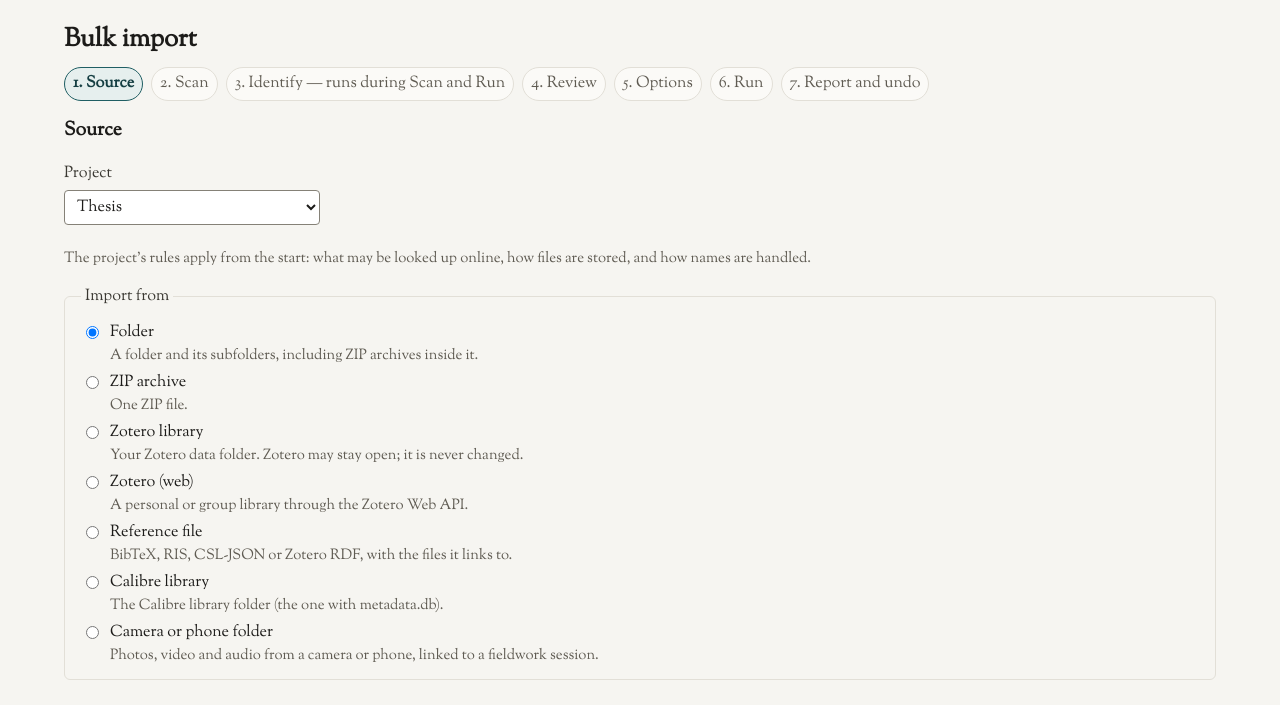
Scenario: the import wizard's path fields in the desktop shell (D12) › Reference file: the picker fills “File path”, and Scan sends that path
Click the radio button labelled "Reference file".
click(92, 532)  # box [86,526,99,539]
(page scrolled)
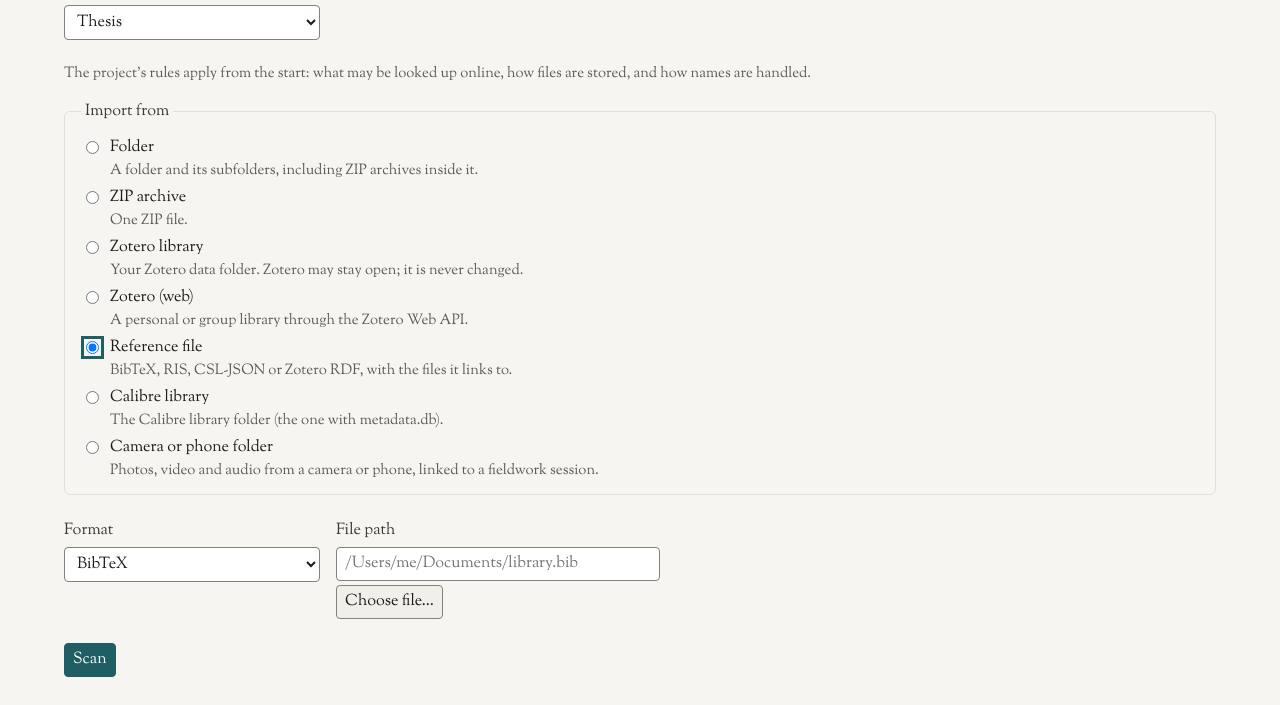
Click the button "Choose file…".
click(389, 602)  # box [336,585,443,619]
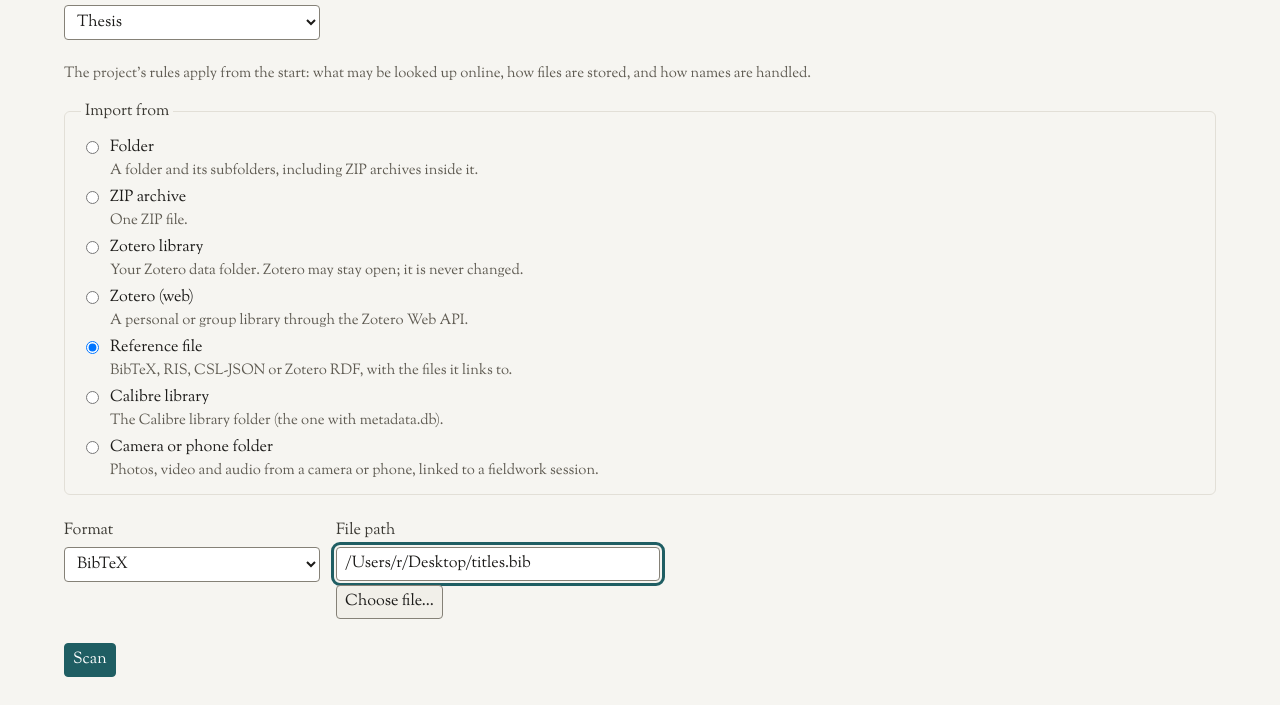
Expected: the field labelled "File path" holds "/Users/r/Desktop/titles.bib", [336,547,660,581]
Click the button "Scan".
click(90, 660)  # box [64,643,116,677]
(page scrolled)
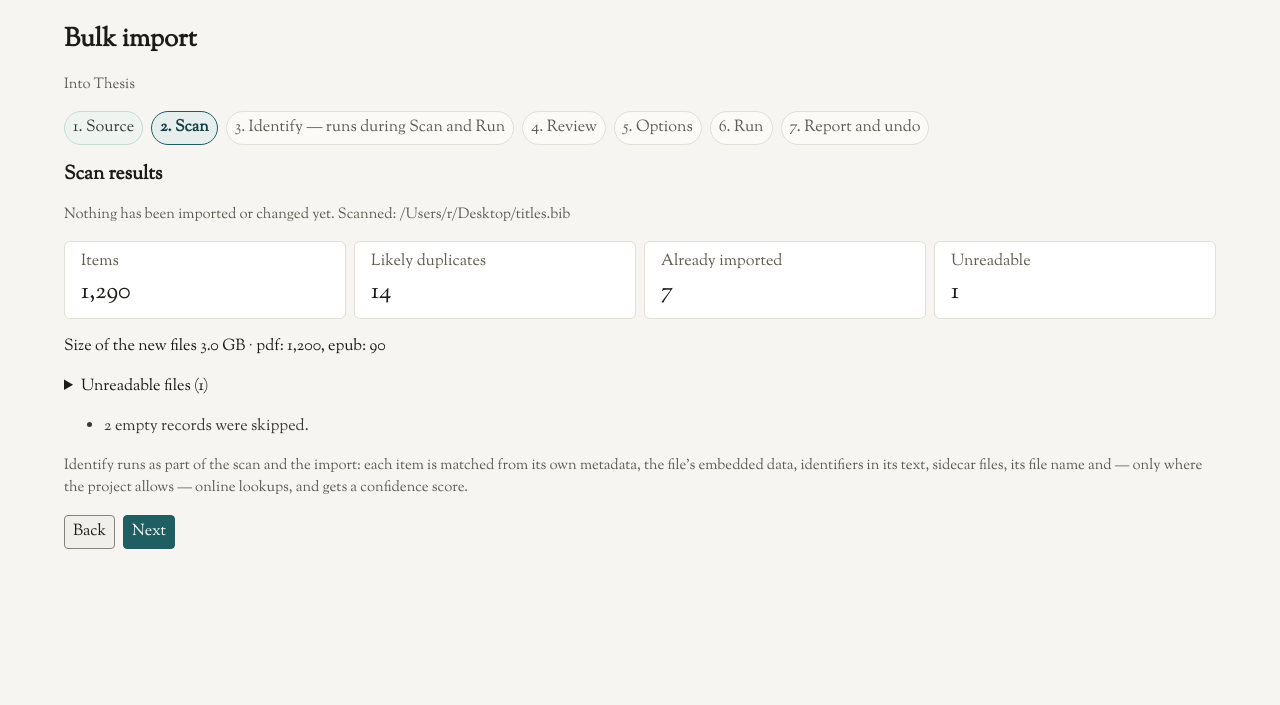
Expected: the heading "Scan results" is shown, [64,161,162,188]
